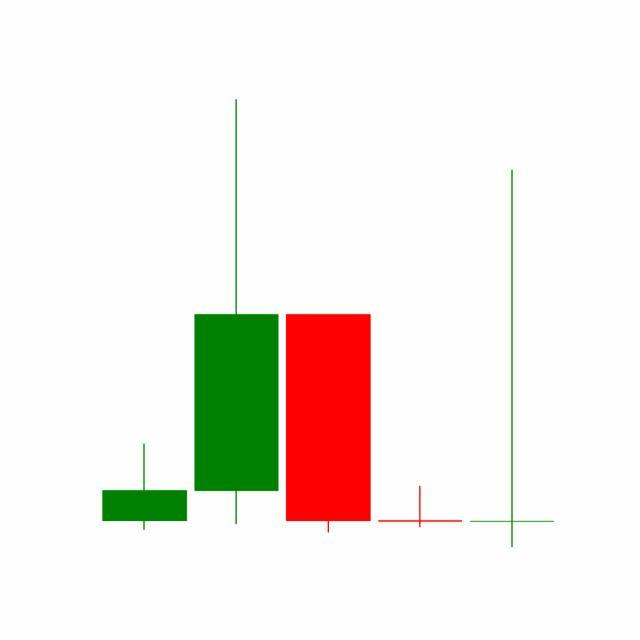Spinning Top: (374, 485, 468, 529)
